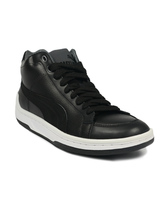shoes: (13, 45, 158, 158)
